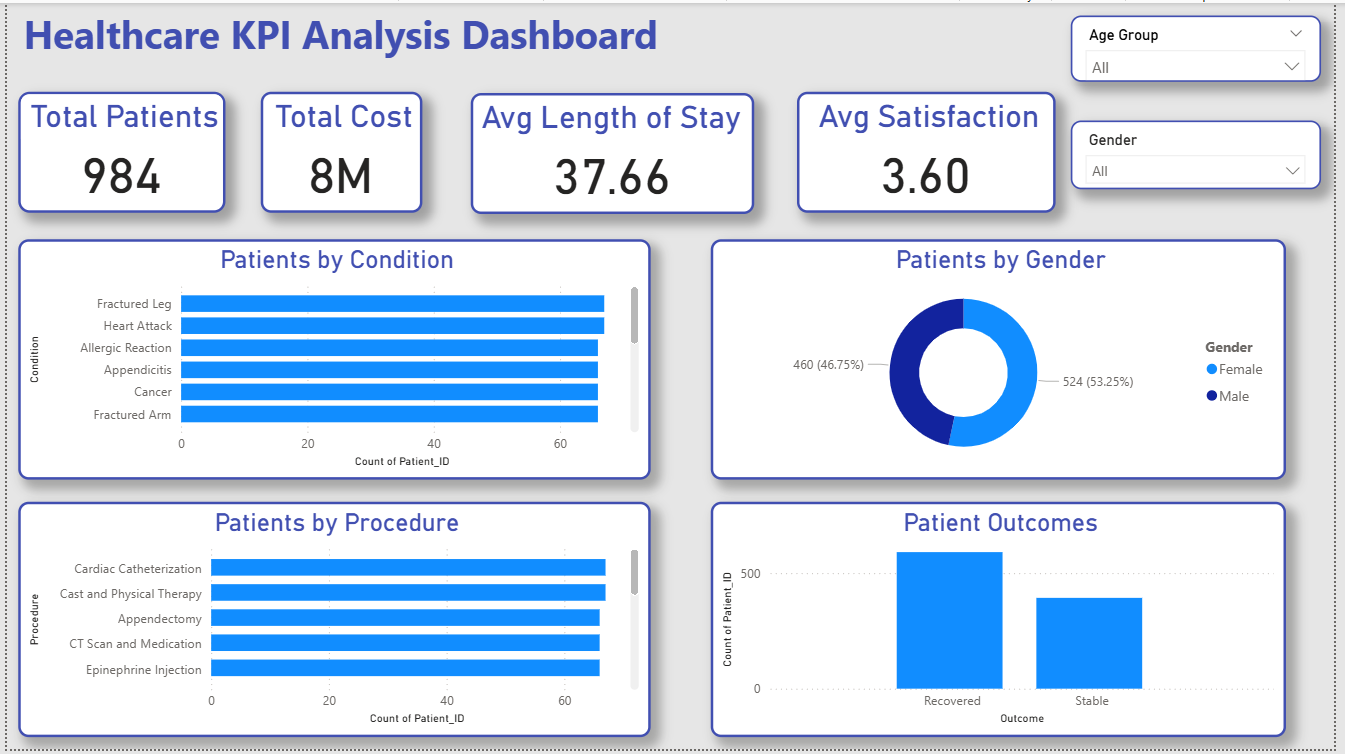

This screenshot's page, from the dashboard's own definition file:
{"tool":"powerbi","page":{"name":"Hospital Overview","canvas":[1280,720],"ordinal":0},"visuals":[{"type":"card","title":"Total Patients","fields":{"Values":["Table1.Total Patients"]},"box":[10.9,85.7,200.3,117],"z":0},{"type":"card","title":"Total Cost","fields":{"Values":["Table1.Total Cost"]},"box":[244.9,85.7,155.6,117],"z":1000},{"type":"card","title":"Avg Length of Stay","fields":{"Values":["Table1.Avg Length of Stay"]},"box":[447.6,86.9,273.9,117],"z":2000},{"type":"card","title":"Avg Satisfaction","fields":{"Values":["Table1.Avg Satisfaction"]},"box":[762.5,85.7,249.7,117],"z":3000},{"type":"clusteredBarChart","title":"Patients by Condition","fields":{"Category":["Table1.Condition"],"Y":["CountNonNull(Table1.Patient_ID)"]},"box":[10.9,228,610.5,231.6],"z":4000},{"type":"donutChart","title":"Patients by Gender","fields":{"Category":["Table1.Gender"],"Y":["CountNonNull(Table1.Patient_ID)"]},"box":[679.2,228,555,231.6],"z":5000},{"type":"clusteredBarChart","title":"Patients by Procedure","fields":{"Category":["Table1.Procedure"],"Y":["CountNonNull(Table1.Patient_ID)"]},"box":[10.9,481.4,610.5,226.8],"z":6000},{"type":"clusteredColumnChart","title":"Patient Outcomes","fields":{"Category":["Table1.Outcome"],"Y":["CountNonNull(Table1.Patient_ID)"]},"box":[679.2,481.4,555,226.8],"z":7000},{"type":"slicer","title":"Age Group","fields":{"Values":["Table1.Age_Group"]},"box":[1026.7,12.1,241.3,63.9],"z":8000},{"type":"slicer","fields":{"Values":["Table1.Gender"]},"box":[1026.7,113.4,241.3,66.4],"z":9000},{"type":"textbox","box":[10.9,0,690.1,65.1],"z":10000}]}

Visuals, with their boxes in screenshot pixels (x1, y1, x2, y2), scaled from the page's 1280x720 canvas onto the 1345x754 screenshot:
"Total Patients" card: 11,90,222,212
"Total Cost" card: 257,90,421,212
"Avg Length of Stay" card: 470,91,758,214
"Avg Satisfaction" card: 801,90,1064,212
"Patients by Condition" clusteredBarChart: 11,239,653,481
"Patients by Gender" donutChart: 714,239,1297,481
"Patients by Procedure" clusteredBarChart: 11,504,653,742
"Patient Outcomes" clusteredColumnChart: 714,504,1297,742
"Age Group" slicer: 1079,13,1332,80
slicer - Table1.Gender: 1079,119,1332,188
textbox: 11,0,737,68
